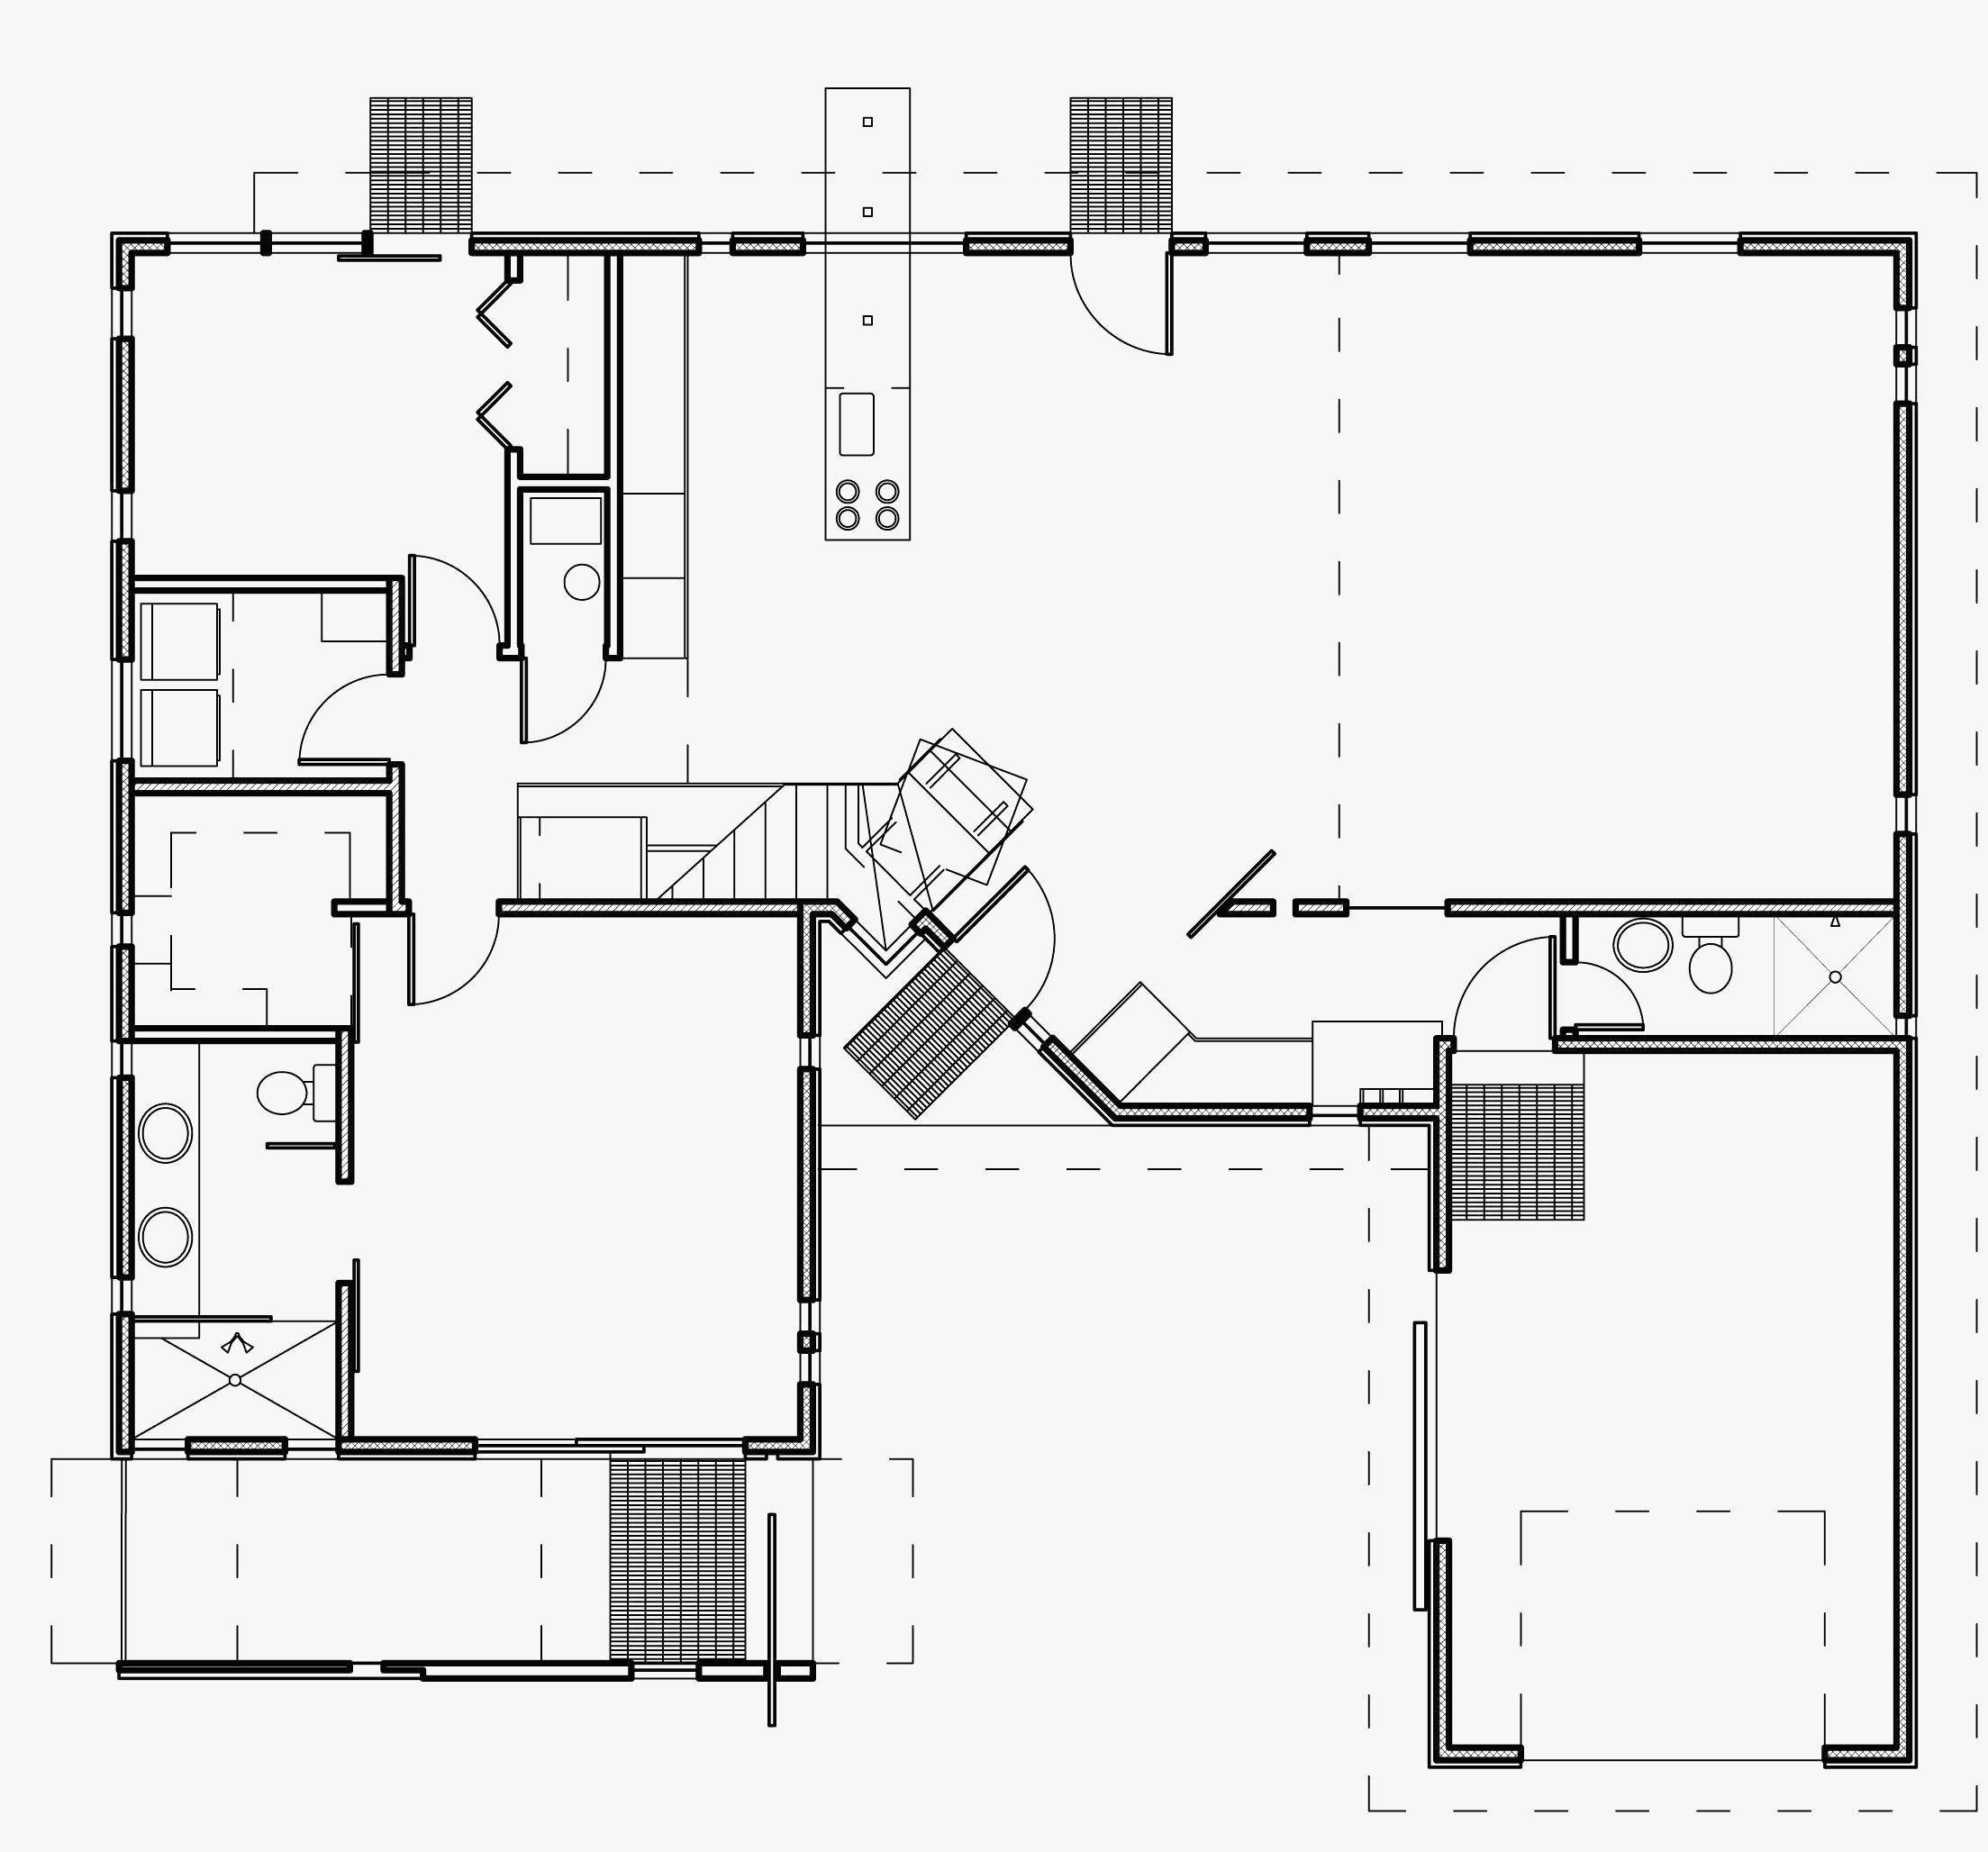door: (1057, 256, 1185, 359), (977, 860, 1071, 999), (399, 919, 519, 1027), (1455, 924, 1560, 1030), (514, 663, 606, 757), (406, 541, 493, 639), (289, 670, 374, 768), (287, 668, 373, 766), (285, 667, 371, 764), (1574, 961, 1647, 1034)
